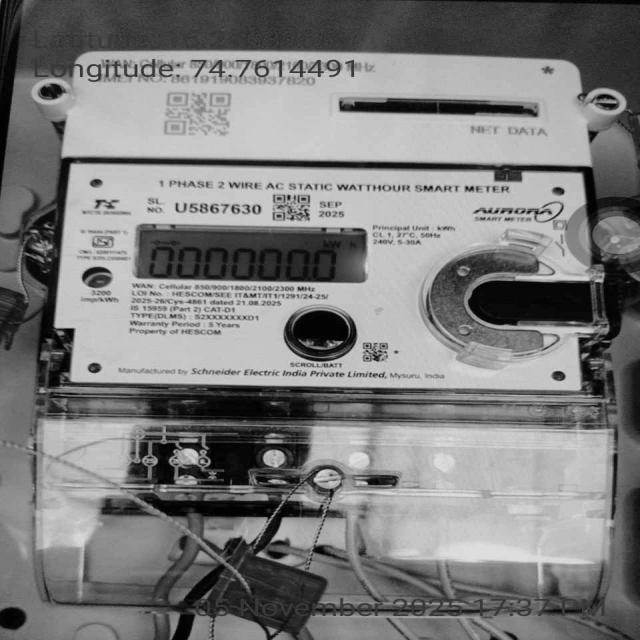meter: (56, 48, 585, 389)
